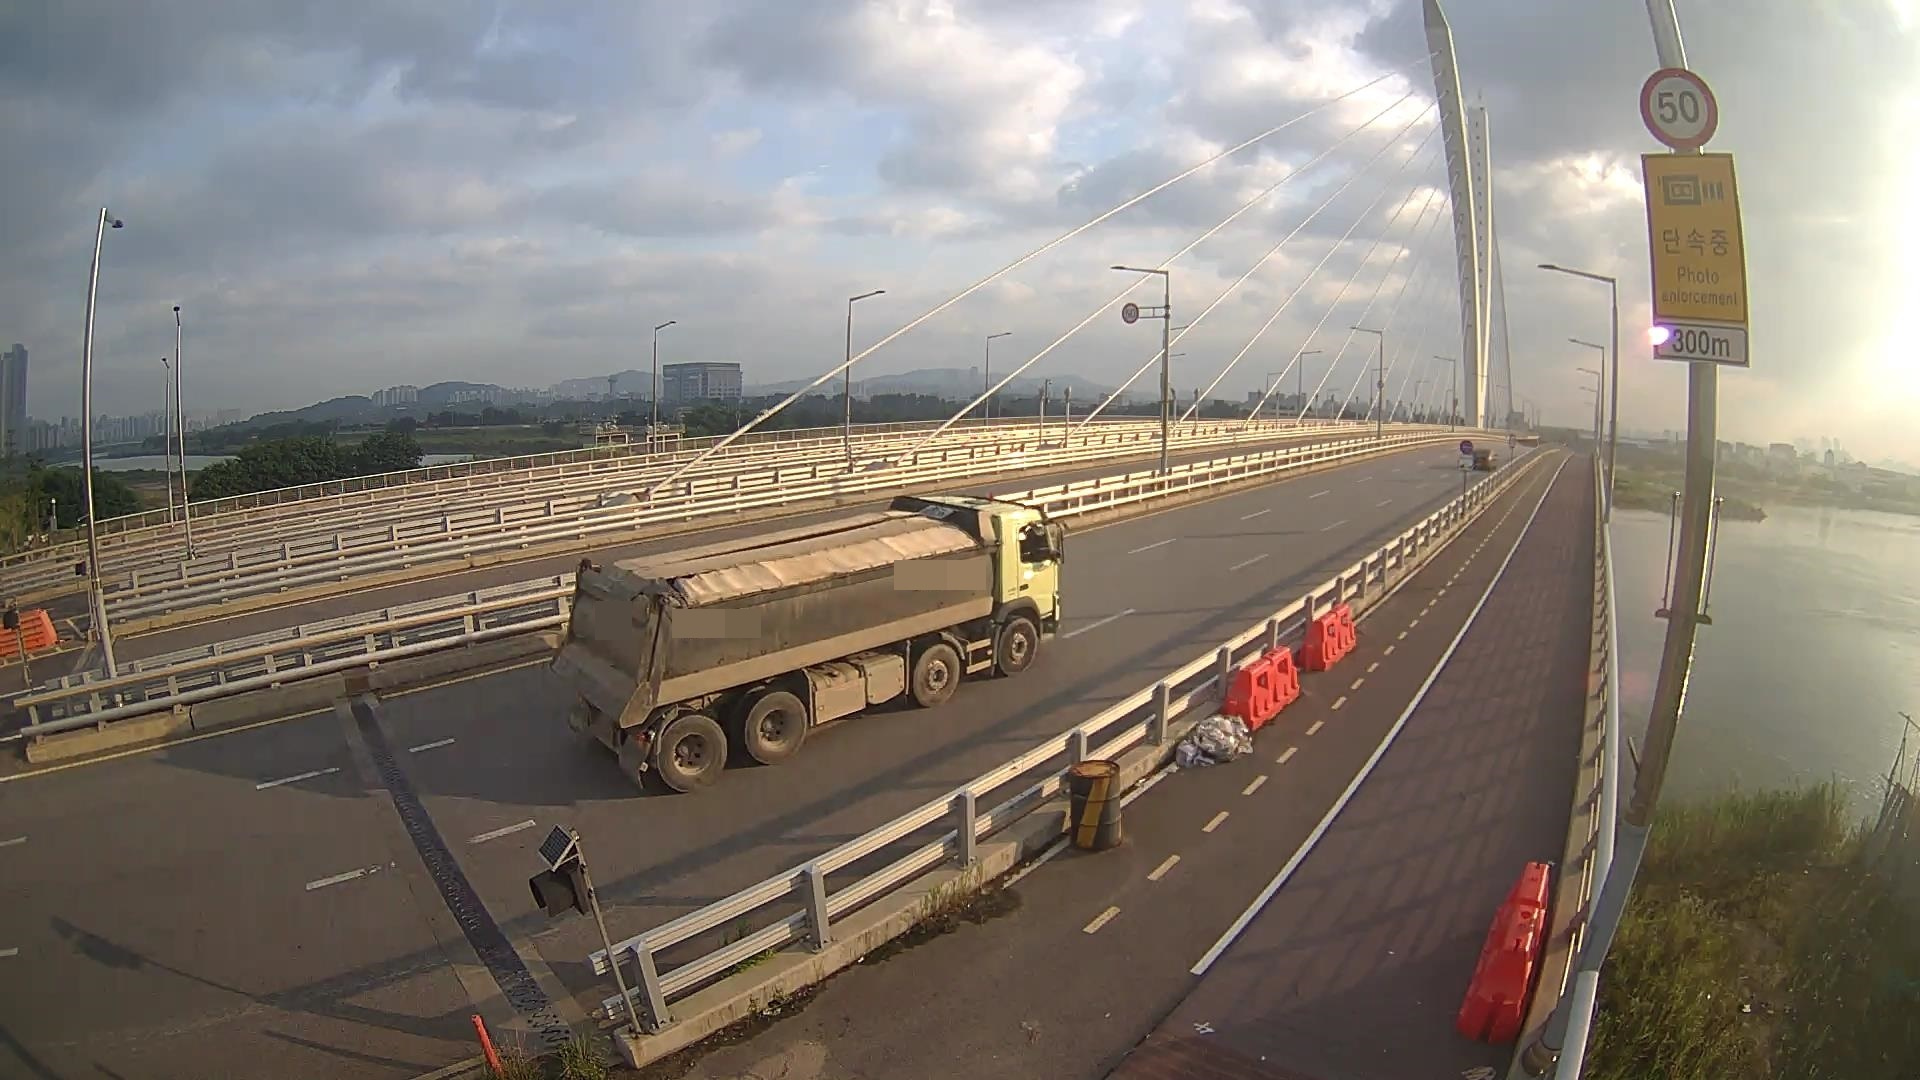정상차량: (549, 495, 1071, 794)
